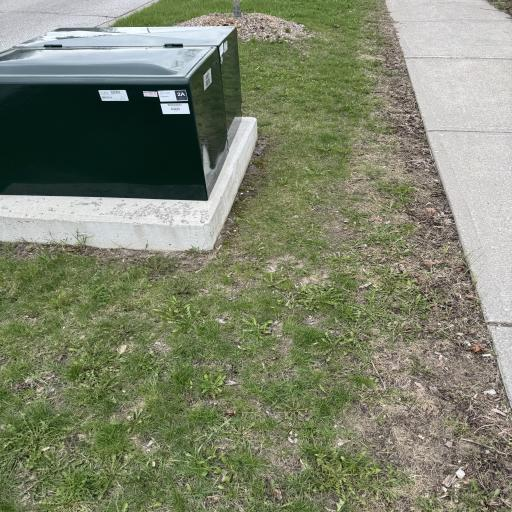Electrical Box: (0, 25, 248, 205)
